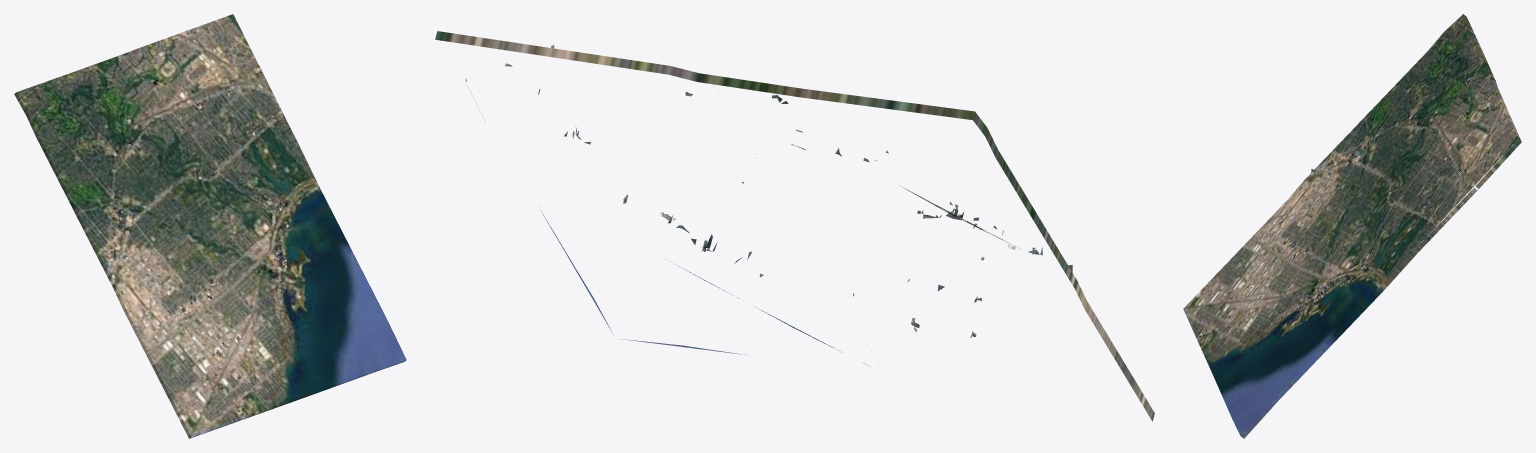
The model's file is AJVsH2zRcKCS9o4-RLsCAAeXVUIwyHNZB8KdZVg_VocwnDXLLmrEt6VtPDoBzBRqMrLJ-lkctyqEVnEsyokdTxg0TYe3laoPZtjLeobmMXwezaD7NezGmfBGmSJvwk3dg7Lcd09aDMQCebk5SKJ6Avc.glb.
The picture shows the model from 3 angles, left to right: view 1: azimuth 30°, elevation 25°; view 2: azimuth 150°, elevation 25°; view 3: azimuth 270°, elevation 25°; orthographic projection. The views are drawn at different scales.
Size of the model in its own units: 8235 by 7278 by 7998.
1 material, 1 textured.
